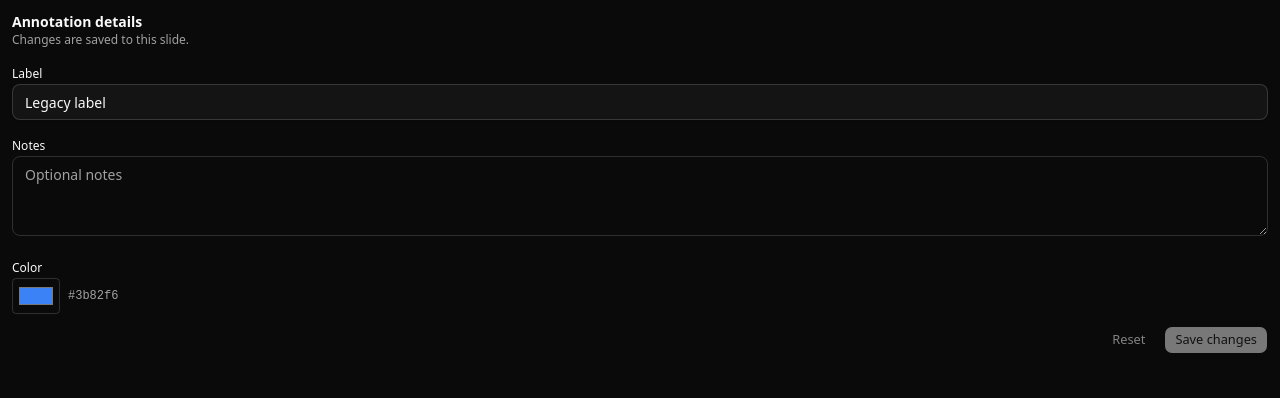
Scenario: AnnotationEditor › keeps the draft visible when saving fails
Replace the text in the field labelled "Label" with "Unsaved draft" at (640, 102), box [12,84,1268,120]
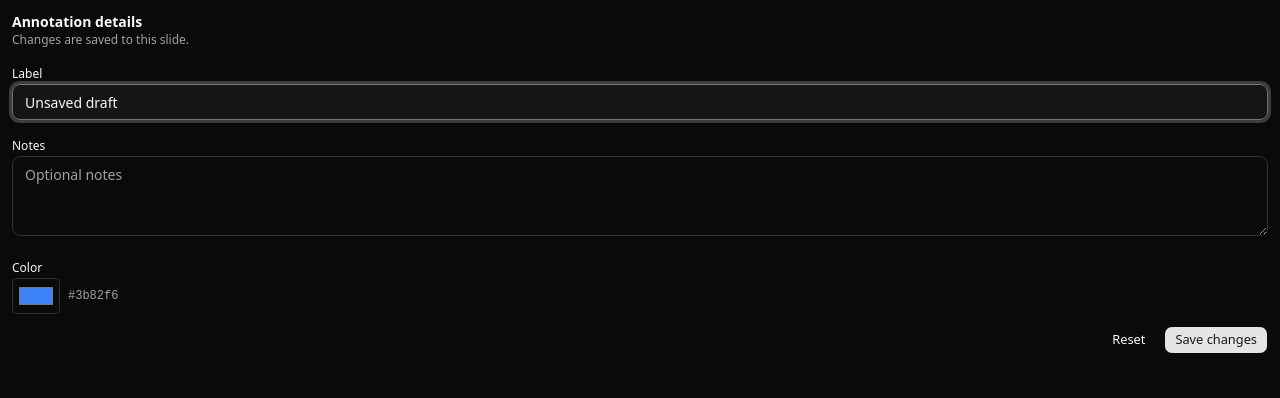
Click the button "Save changes" at (1216, 340), box [1164,326,1268,354]
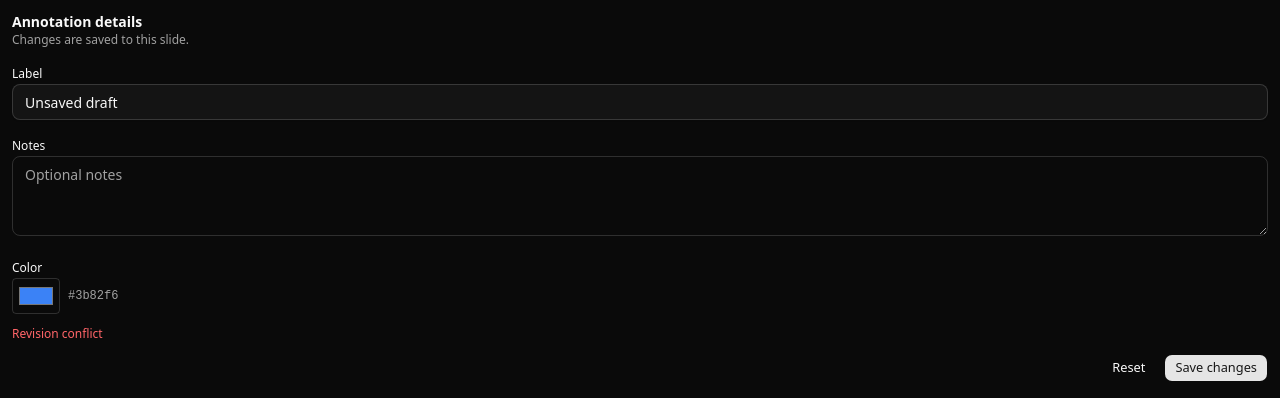
Expected: the message reads "Revision conflict", [12,325,103,342]
